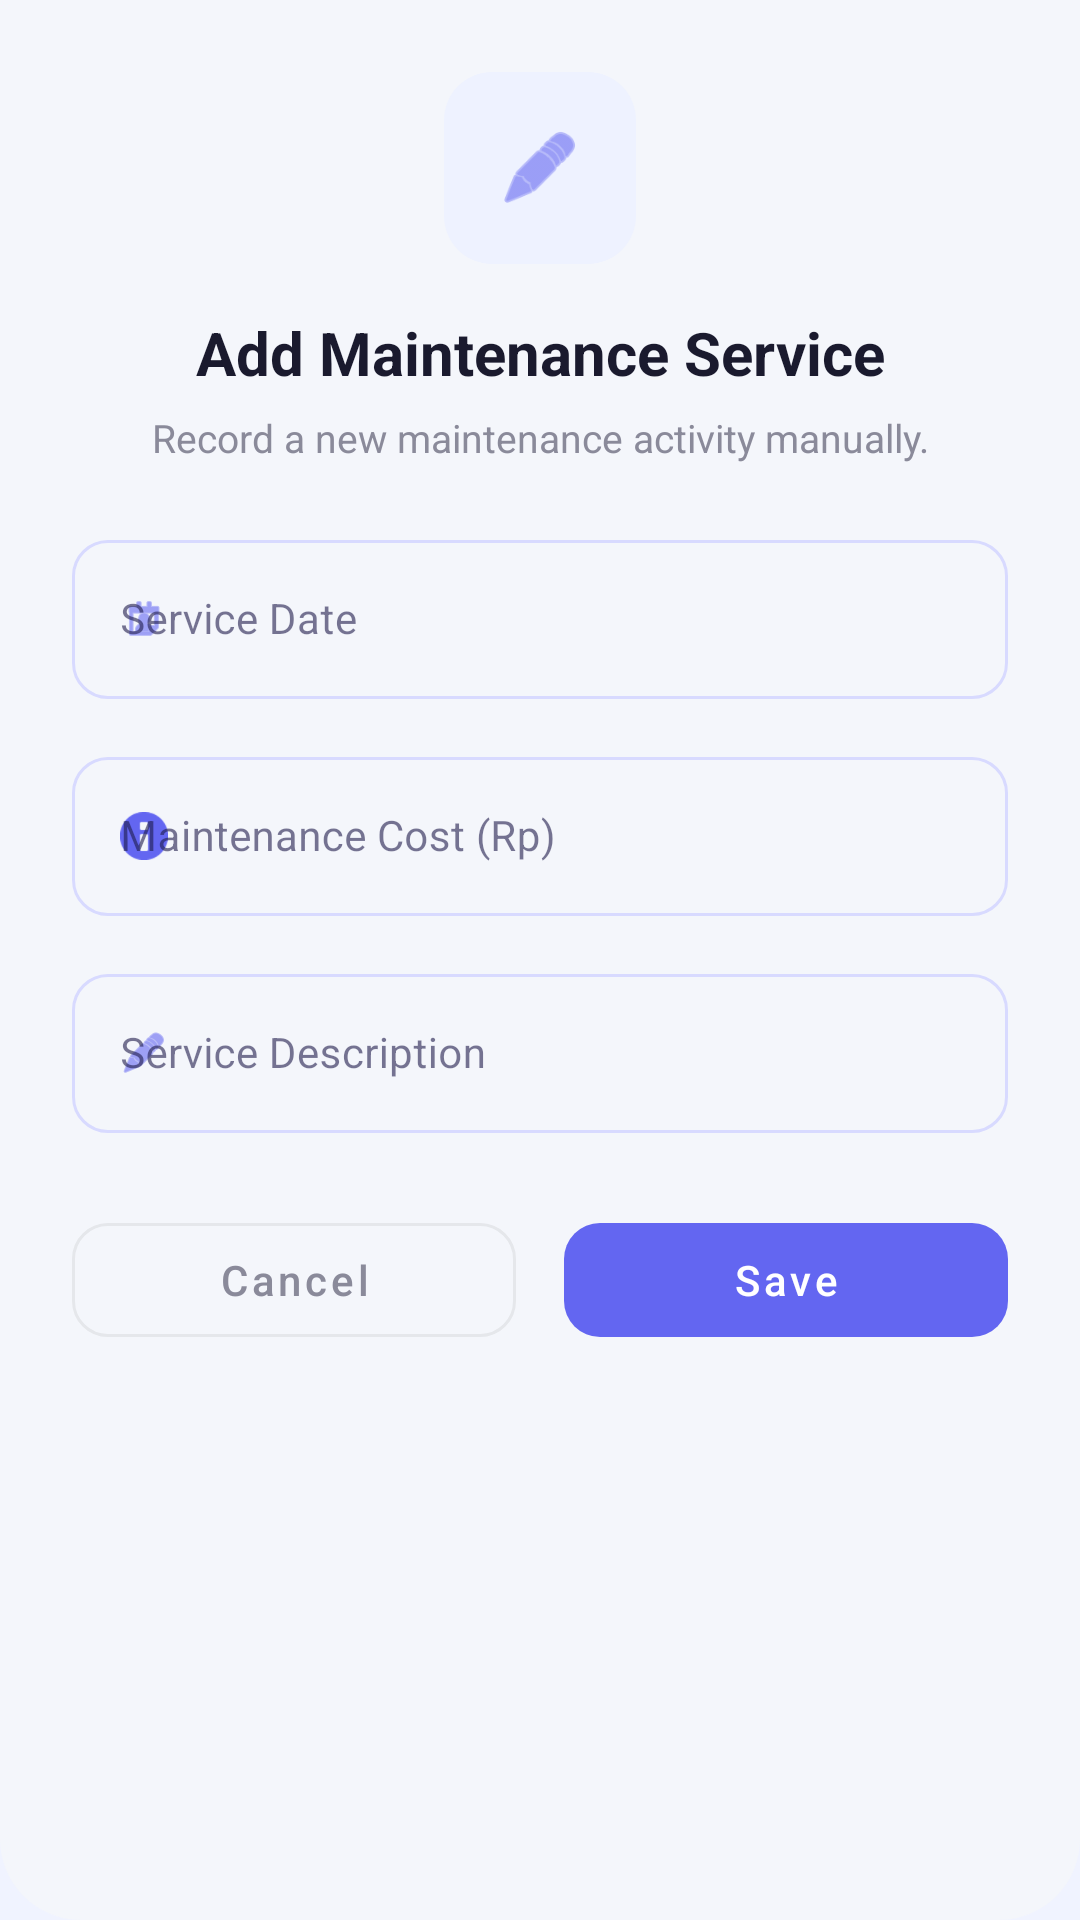

Icons on this 1080px x 1920px Android screen, each with the point to tap as (x=x, y=y):
edit: (x=539, y=167)
